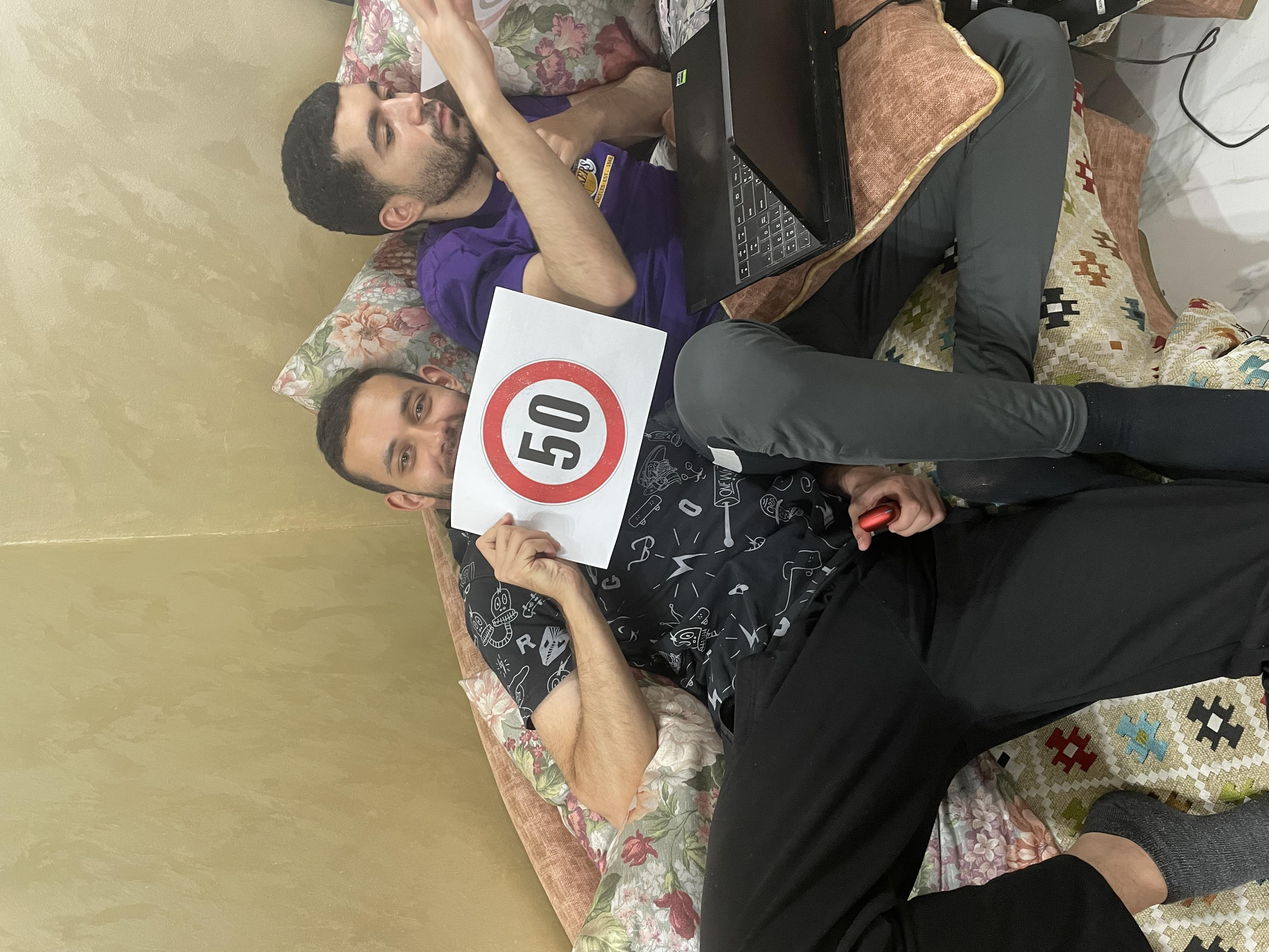50-Speed: (604, 357, 789, 472)
